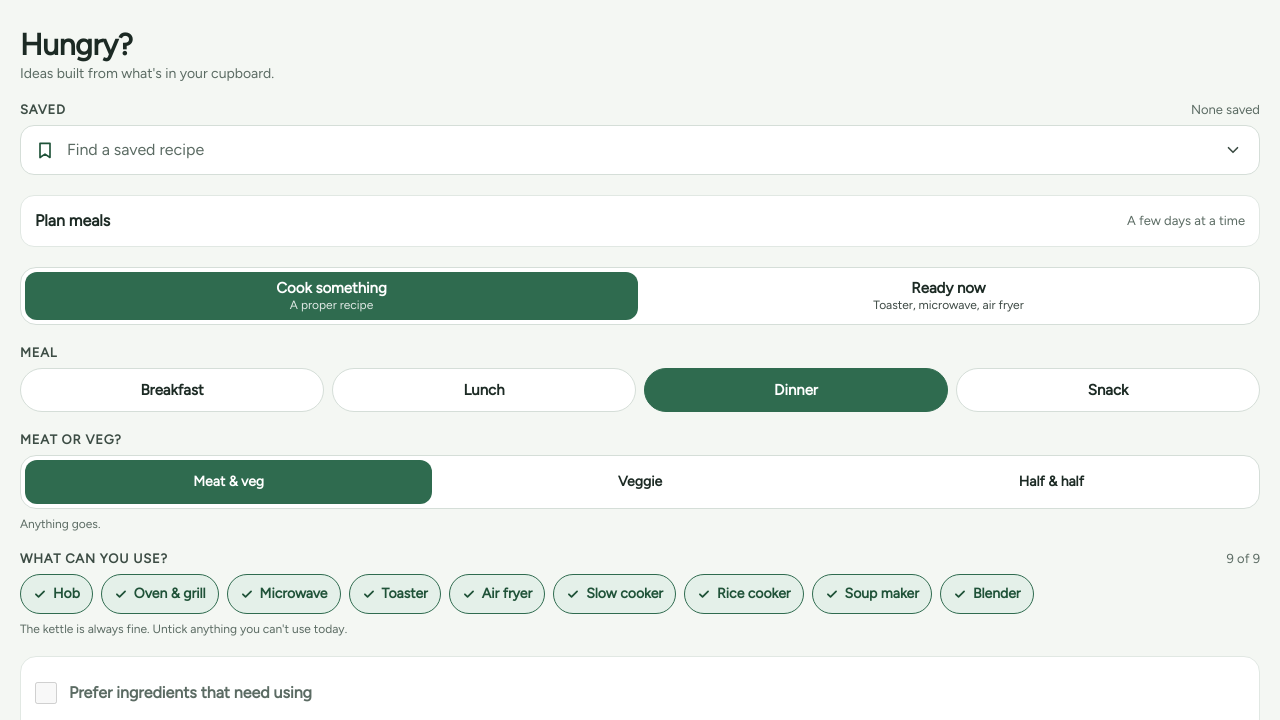
Test: with nothing saved: None saved, and a hint when opened
This screenshot has width=1280, height=720.
Expected: the text "None saved" is shown, [1191,102,1260,116]
Focus the dropdown labelled "Saved" at (634, 150), box [65,139,1203,160]
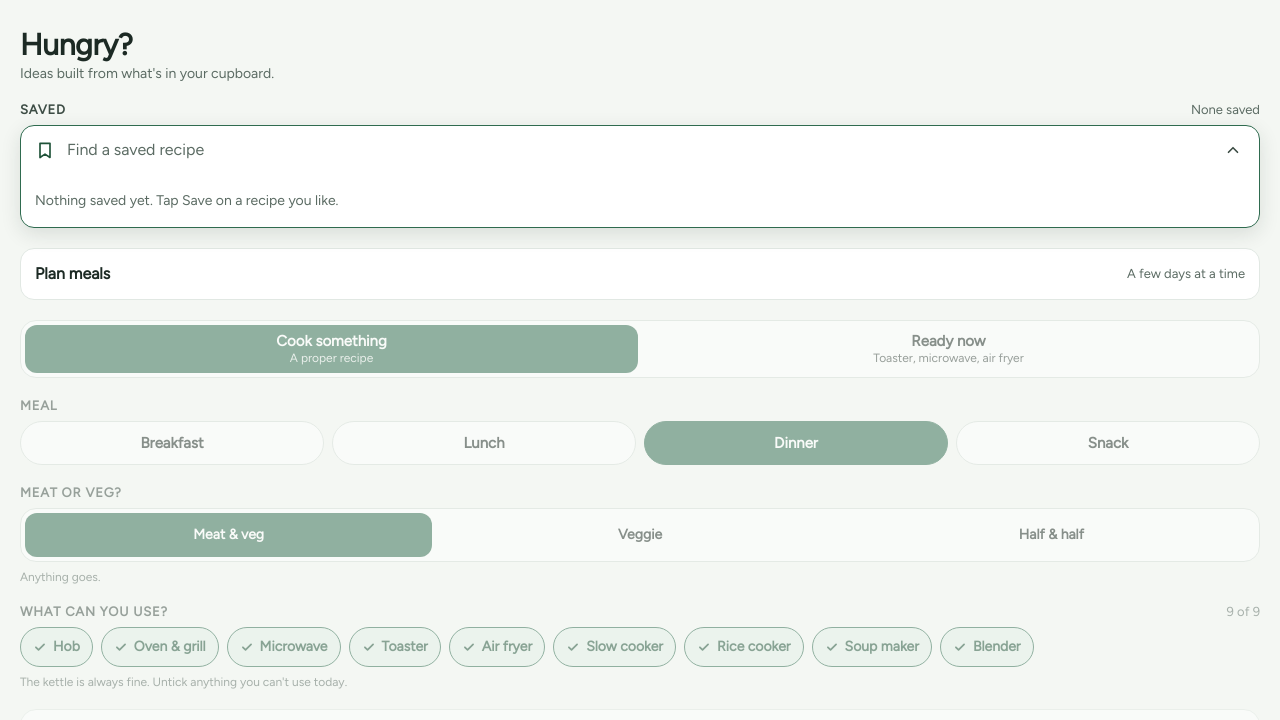
Result: the list item "Nothing saved yet. Tap Save on a recipe you like." is shown at [35,192,338,208]
